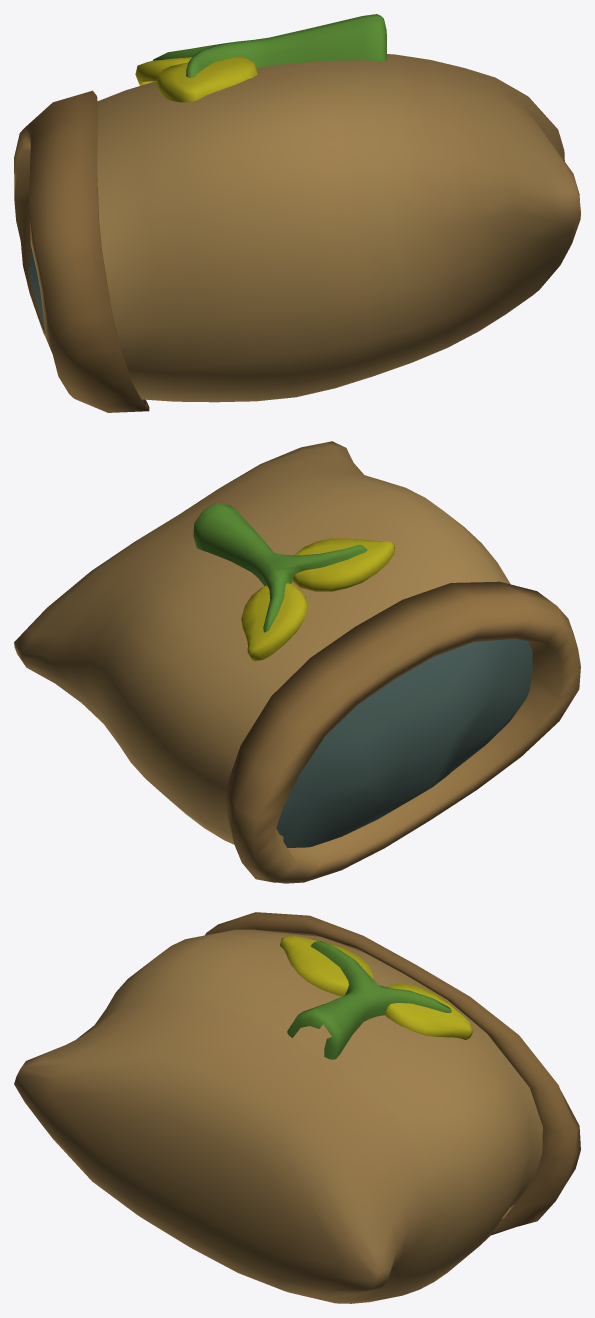
File: Fertilizer-Large-Animated.fbx
3 views of the same model, one above another, from view 1: azimuth 30°, elevation 25°; view 2: azimuth 150°, elevation 25°; view 3: azimuth 270°, elevation 25° (orthographic). The views are drawn at different scales.
Visible parts, largest first — view 1: Fertilizer-Large-Animated; view 2: Fertilizer-Large-Animated; view 3: Fertilizer-Large-Animated.
Boxes of the visible parts, x1,y1,x2,y2 form: Fertilizer-Large-Animated: [14, 14, 580, 412]; Fertilizer-Large-Animated: [14, 441, 580, 883]; Fertilizer-Large-Animated: [14, 912, 580, 1303].
Size of the model in its own units: 27.27 by 15.3 by 25.66.
Materials: 1 (1 with a texture image).
